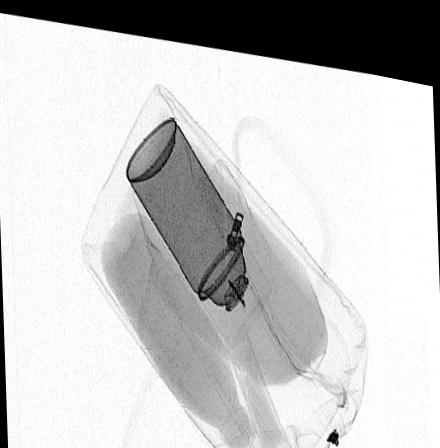Sprayer: (125, 109, 271, 337)
